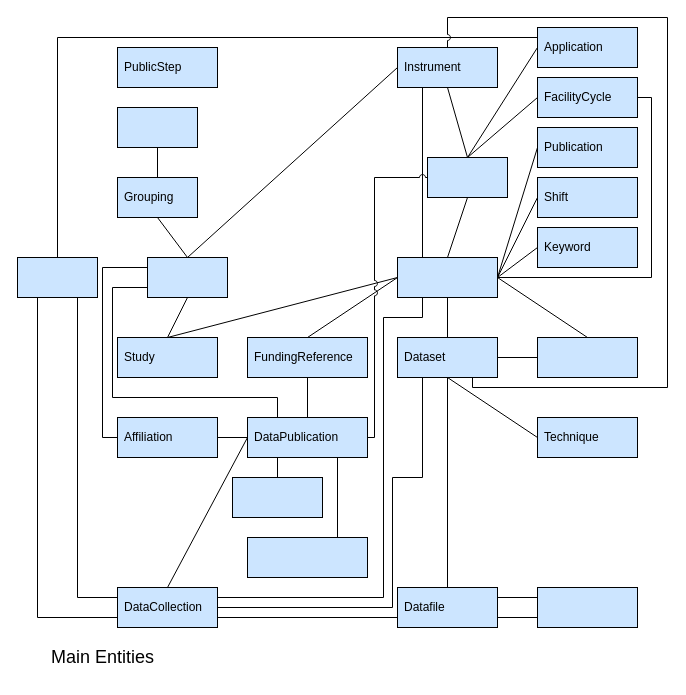
The diagram is 686 pixels wide and 695 high, and some of its shapes have lost their labels. The centre of each missing label's shape, as x and y in pixels:
DataPublicationDate: the point at 307,557
Facility: the point at 467,177
Investigation: the point at 447,277
Job: the point at 57,277
RelatedDatafile: the point at 587,607
RelatedItem: the point at 277,497
Rule: the point at 157,127
Sample: the point at 587,357
User: the point at 187,277
